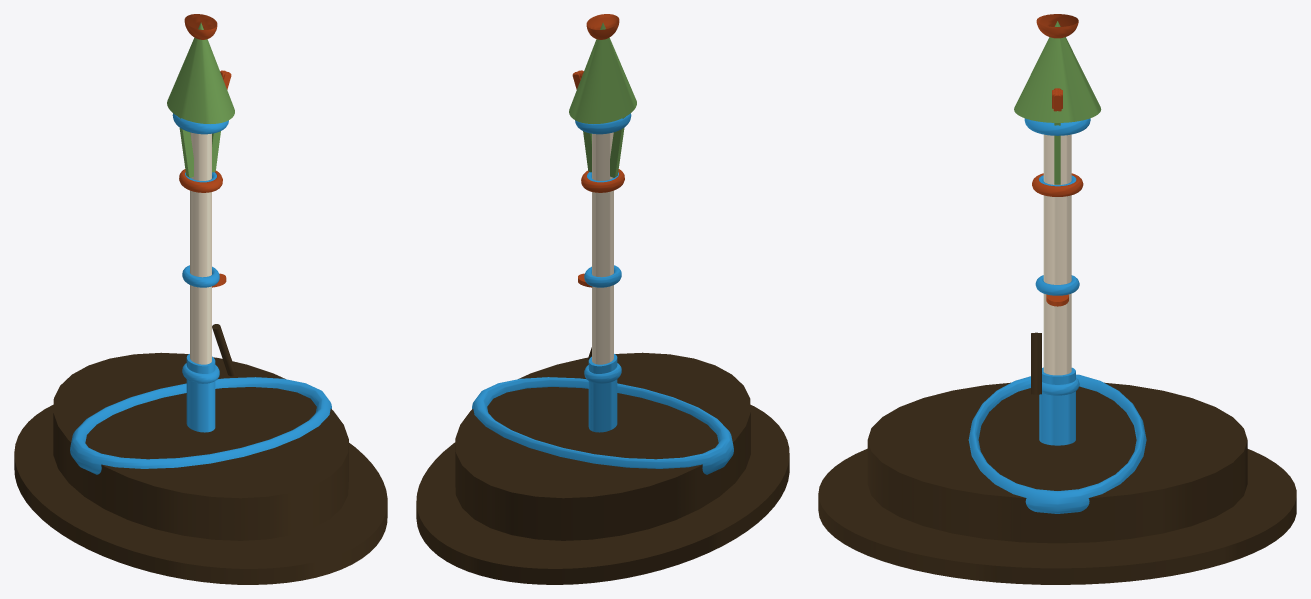
The model's file is 0455_机械图鉴_维京战斧.glb.
3 renders of one model, left to right at view 1: azimuth 30°, elevation 25°; view 2: azimuth 150°, elevation 25°; view 3: azimuth 270°, elevation 25°, orthographic. The views are drawn at different scales.
Parts seen in each view (by area): view 1: card_0455; view 2: card_0455; view 3: card_0455.
Part boxes in pixels (x1,y1,x2,y2): card_0455: (14,14,387,584); card_0455: (416,14,789,584); card_0455: (818,14,1296,584).
Size of the model in its own units: 0.6523 by 1 by 0.8847.
